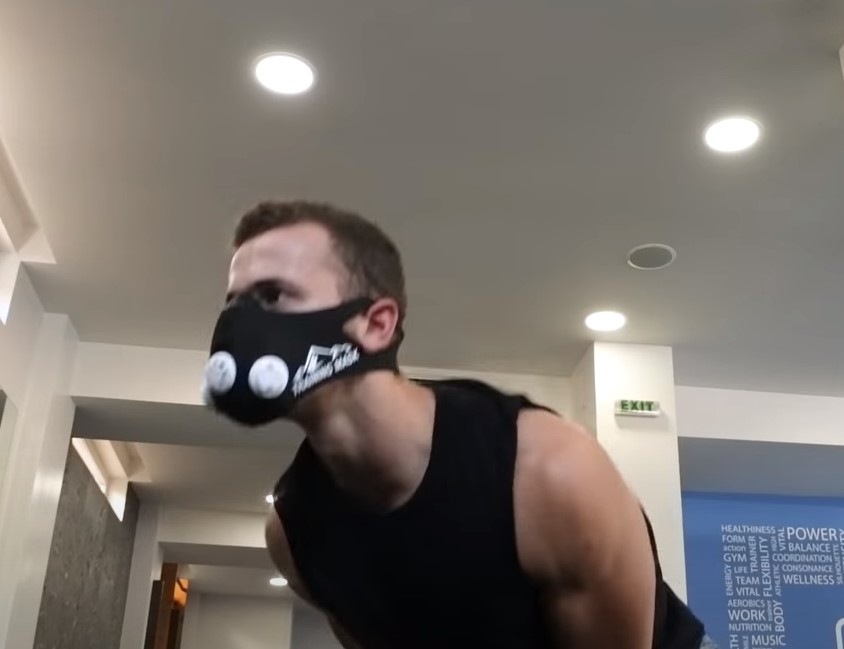face_with_mask: (199, 198, 411, 429)
